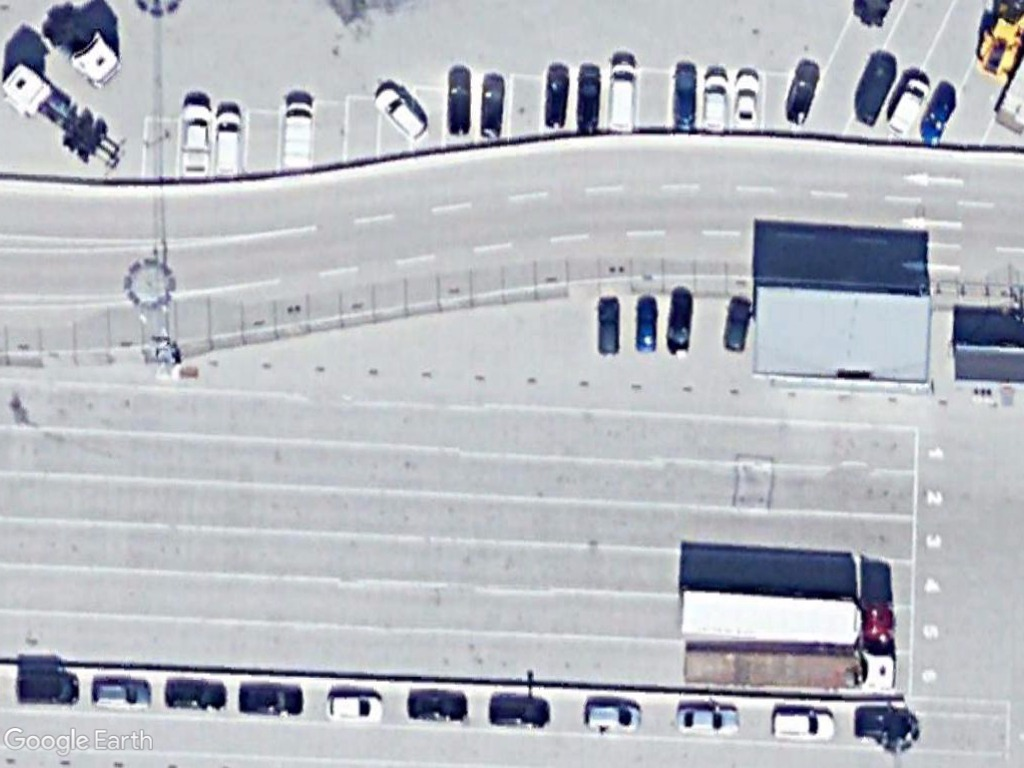car: (368, 83, 435, 144), (879, 70, 936, 141), (672, 696, 751, 742), (765, 704, 843, 746), (780, 57, 823, 131), (83, 673, 160, 714), (11, 669, 86, 710), (483, 693, 555, 733), (579, 697, 649, 737), (664, 286, 701, 361), (235, 682, 309, 719), (403, 689, 476, 726), (319, 690, 390, 726), (628, 293, 666, 358), (729, 68, 765, 134), (699, 67, 731, 138)
truck: (671, 583, 900, 657)
van: (278, 94, 318, 181), (603, 54, 643, 140), (210, 101, 248, 184)
